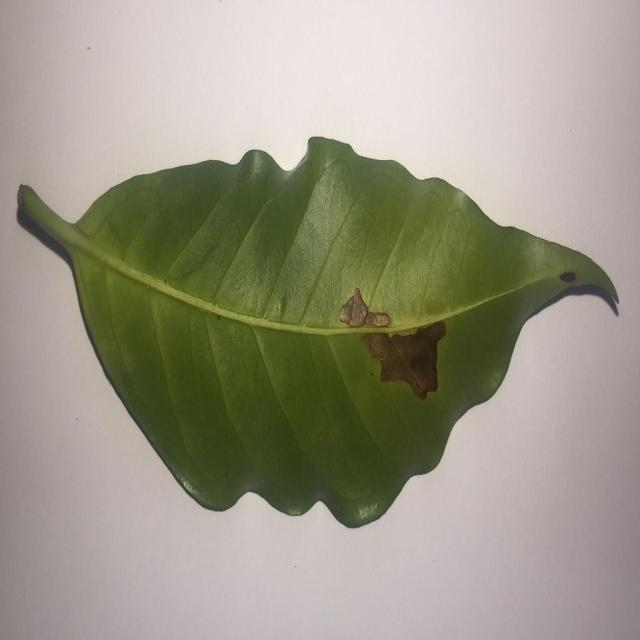Plaga-Minador: (15, 137, 620, 532)
